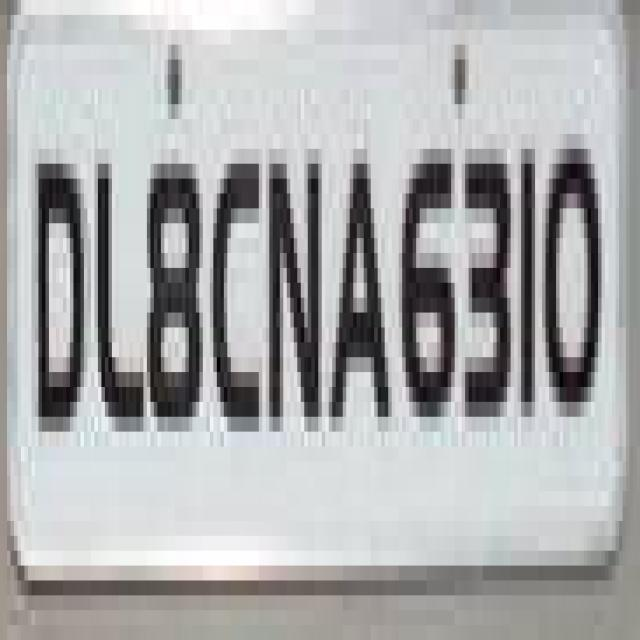license_plate: (21, 0, 640, 610)
